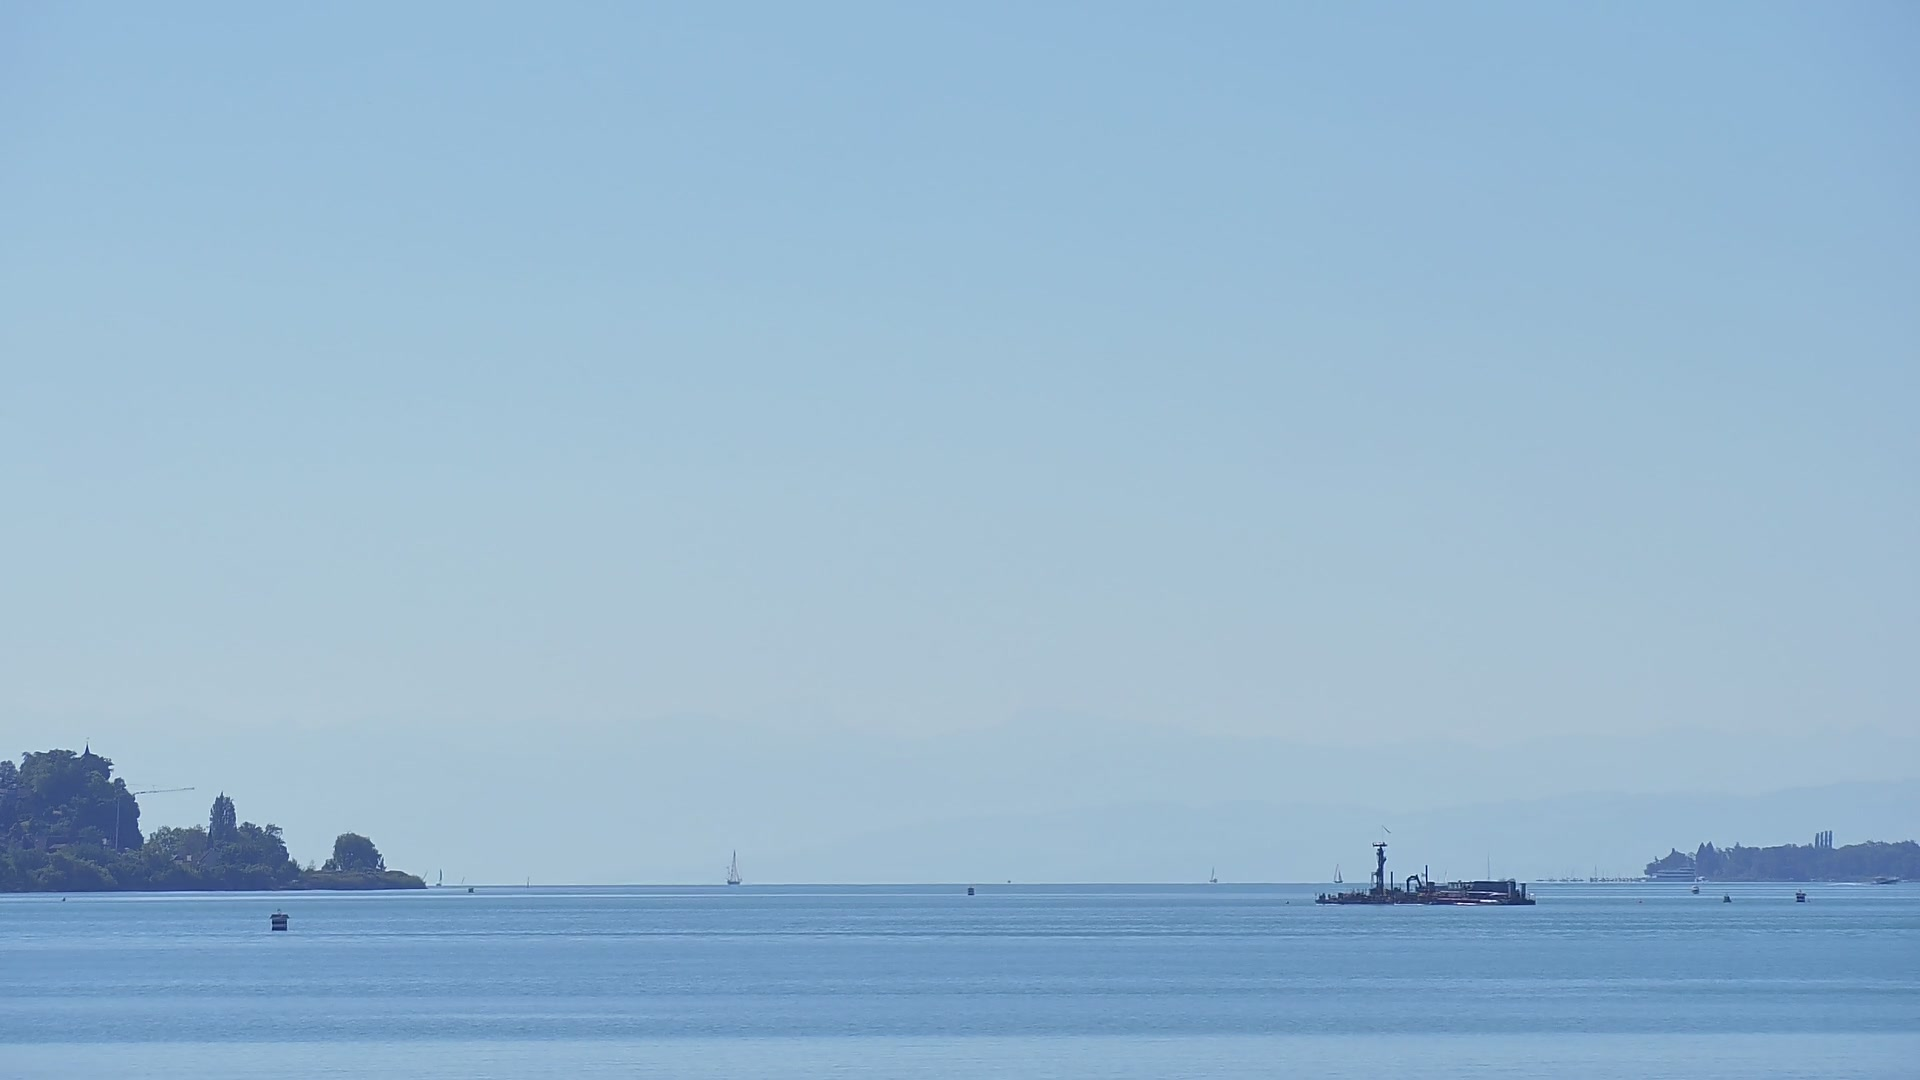sea: (727, 849, 742, 886), (1870, 876, 1899, 885), (1332, 862, 1342, 884), (435, 866, 443, 887), (1209, 865, 1217, 884), (1691, 884, 1698, 894), (525, 874, 530, 887)
